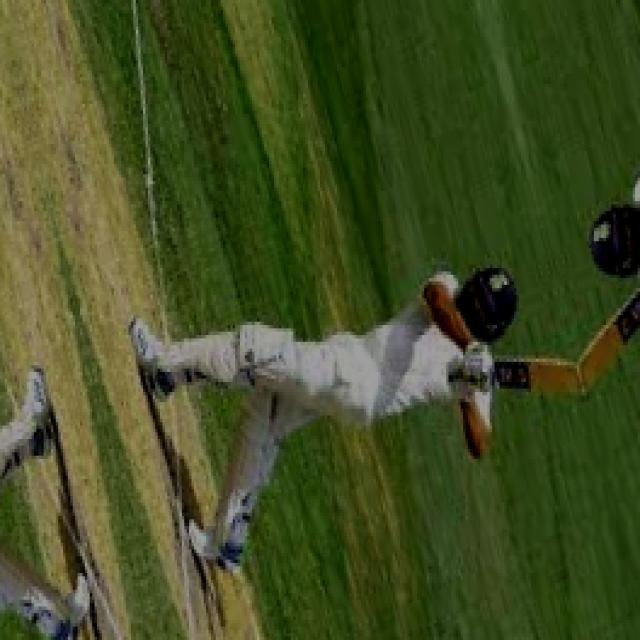toe: (556, 358, 588, 402)
